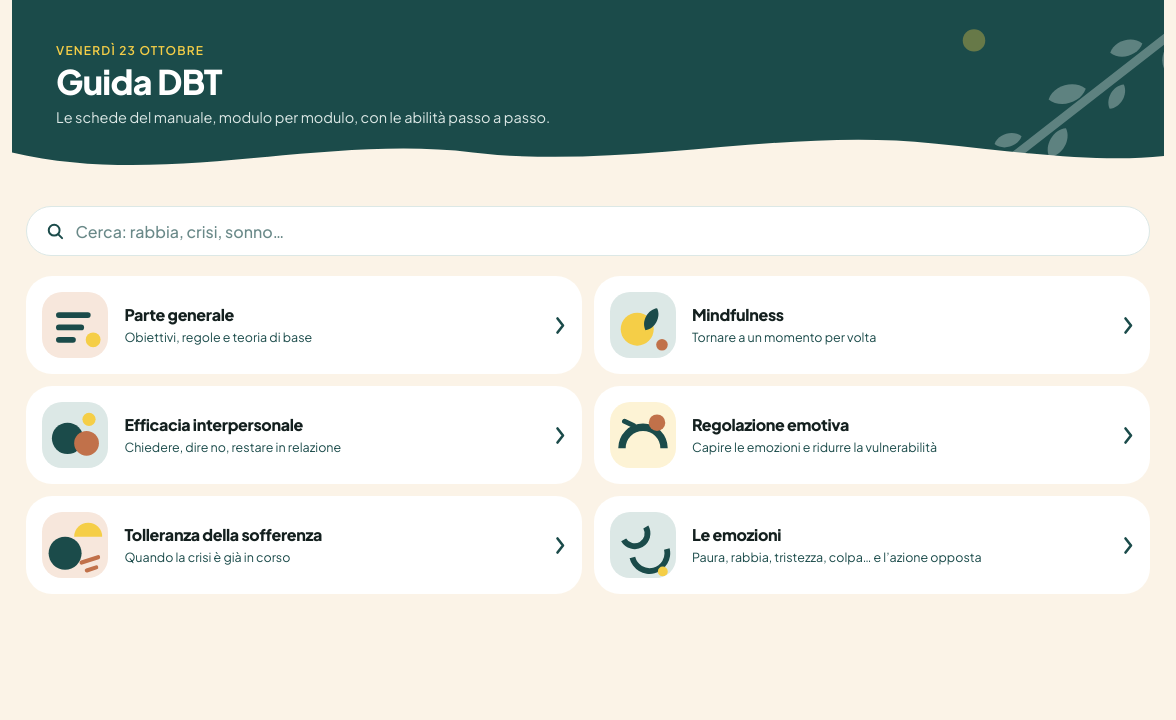
Scenario: Guida › la ricerca porta ai risultati e mostra modulo e numero di scheda
Type "amorevole" into the search field named "Cerca nella guida" at (603, 231), box 75,209 -> 1131,254
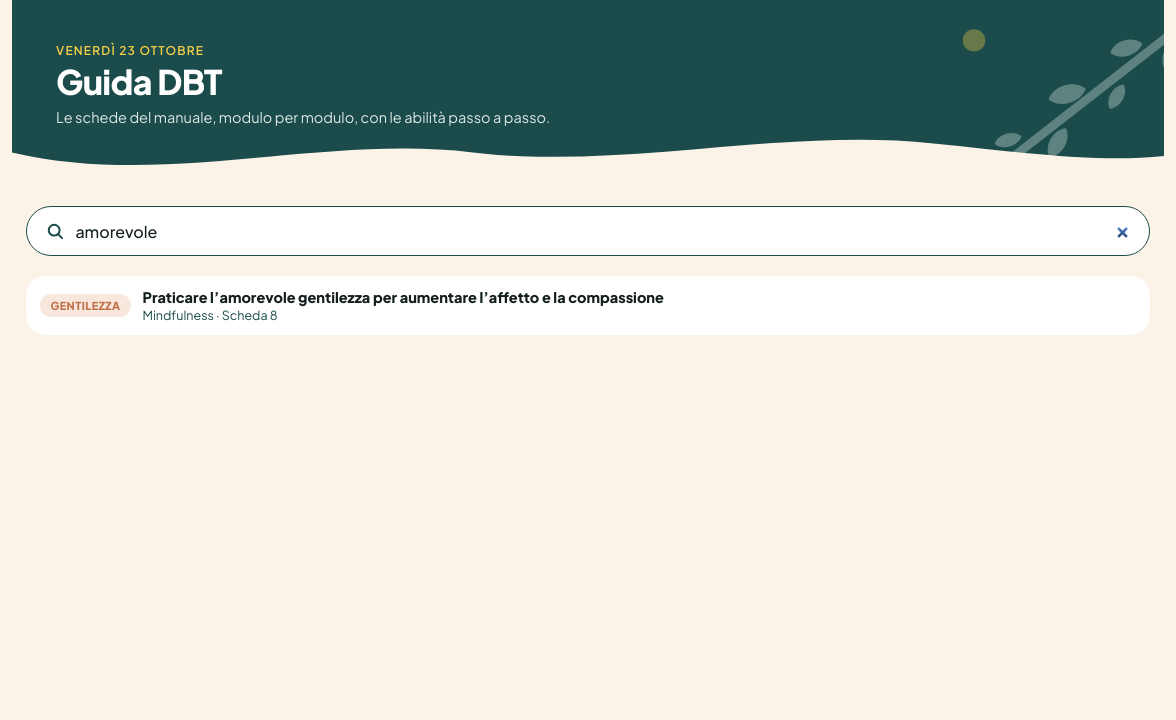
Result: the text "Mindfulness · Scheda 8" is shown at 142,307 -> 278,323
Result: the link "Parte generale" is gone
